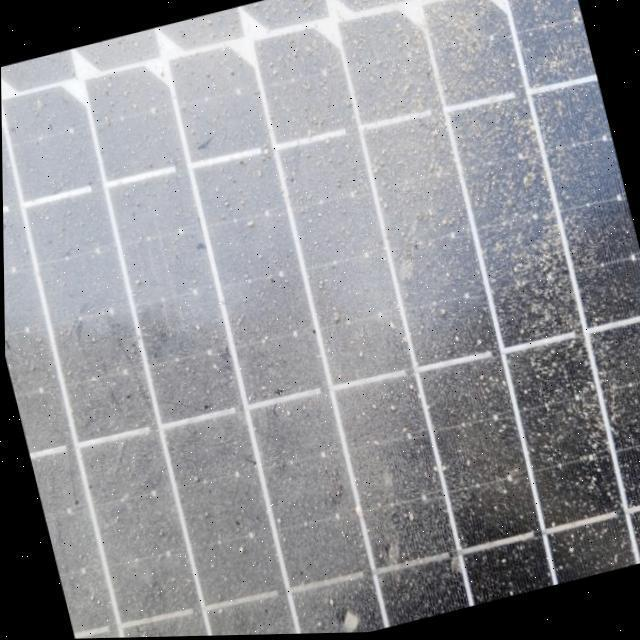Anomaly Solar Panel: (0, 0, 640, 640)
Surface Contaminant: (16, 0, 640, 638)
